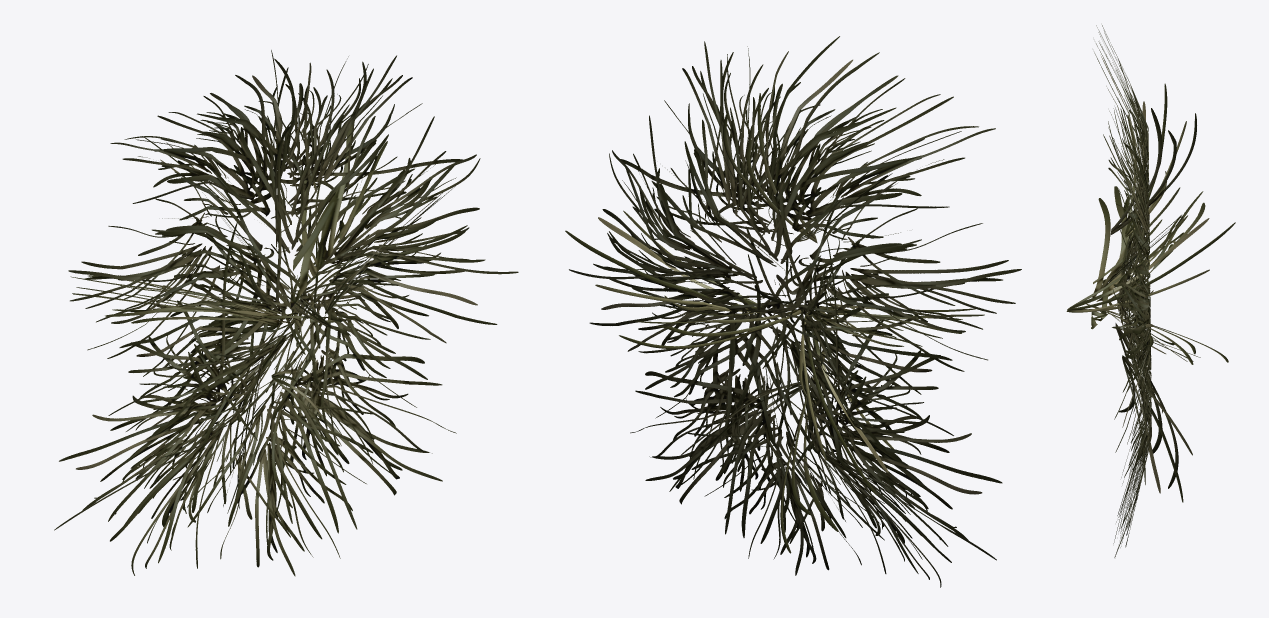
File: TI_Grass_05_01_a_2S.fbx
3 views of the same model, side by side, from view 1: azimuth 30°, elevation 25°; view 2: azimuth 150°, elevation 25°; view 3: azimuth 270°, elevation 25° (orthographic). The views are drawn at different scales.
Visible parts, largest first — view 1: TI_Grass_05_01_a_2S; view 2: TI_Grass_05_01_a_2S; view 3: TI_Grass_05_01_a_2S.
Boxes of the visible parts, <box> form: TI_Grass_05_01_a_2S: <box>54,50,518,576</box>; TI_Grass_05_01_a_2S: <box>565,36,1021,587</box>; TI_Grass_05_01_a_2S: <box>1066,25,1235,557</box>.
Bounding box in the file's own units: 2.24 × 2.5 × 0.9084.
